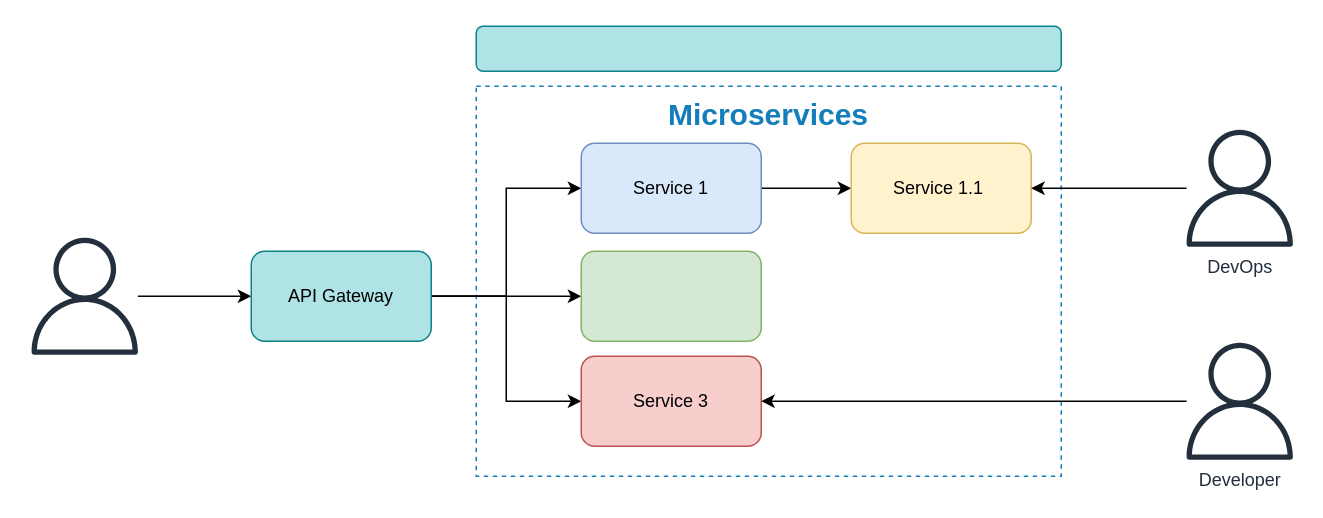
Some shapes in this 1323 by 518 pixel diagram are drawn without their labels. The shapes that lost their labels are listed below. From the top down, each one's centre as x and y in pixels, then its label:
At point 768,48: "Management / Orchestration".
At point 84,295: "Client".
At point 670,295: "Service 2".
